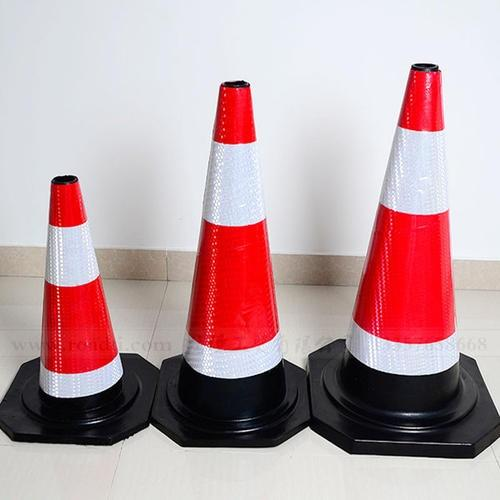cone_barrel: (330, 73, 475, 430), (162, 93, 297, 433), (22, 179, 135, 426)
